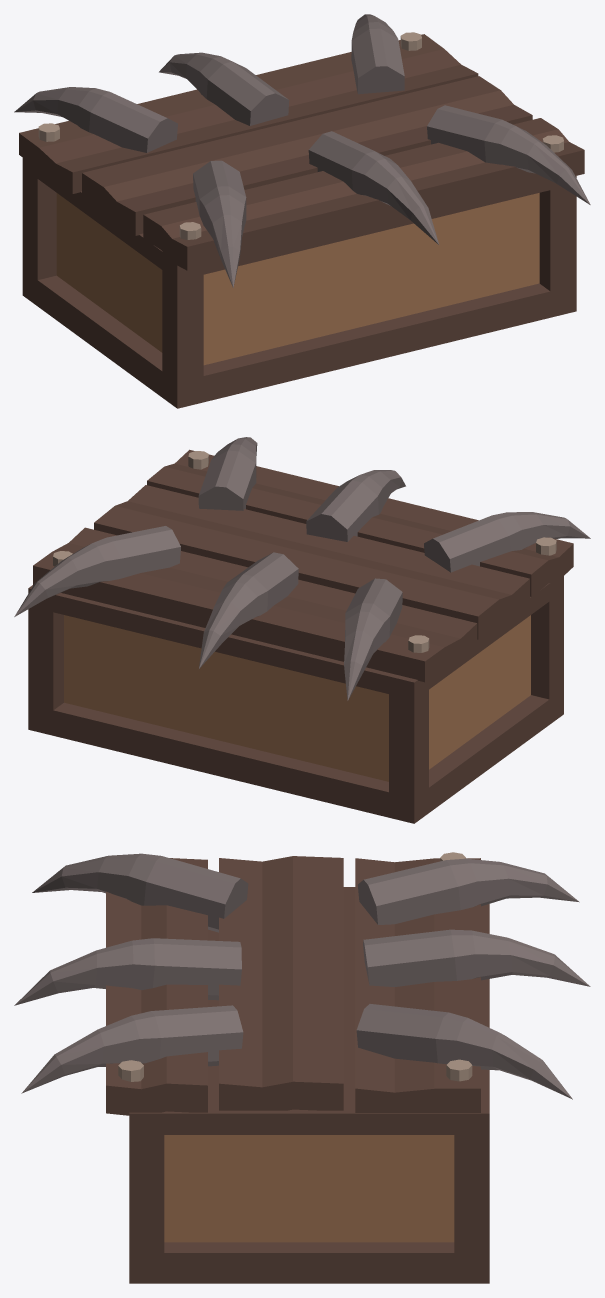
The model's file is SM_spiked_chest.fbx.
3 views of the same model, one above another, from view 1: azimuth 30°, elevation 25°; view 2: azimuth 150°, elevation 25°; view 3: azimuth 270°, elevation 25° (orthographic). The views are drawn at different scales.
Parts seen in each view (by area): view 1: spiked_chest; view 2: spiked_chest; view 3: spiked_chest.
Boxes of the visible parts, left/top/right/bottom form: spiked_chest: left=14, top=14, right=590, bottom=408; spiked_chest: left=14, top=437, right=590, bottom=823; spiked_chest: left=14, top=852, right=590, bottom=1283.
Bounding box in the file's own units: 116 × 54.02 × 122.
